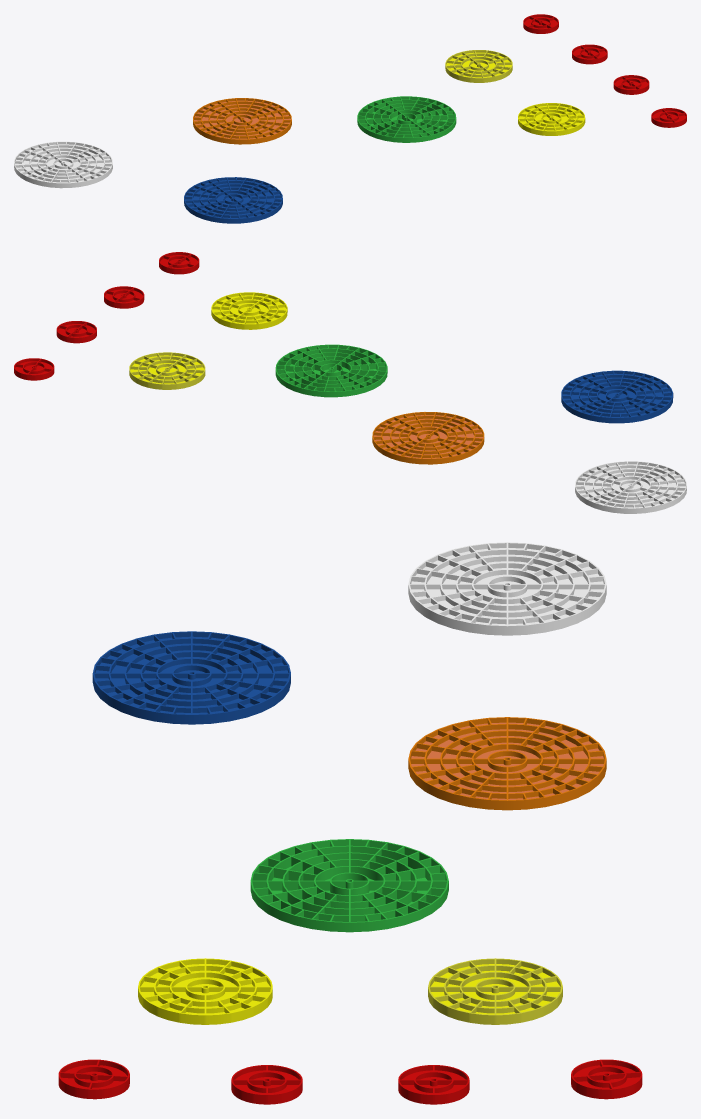
Rendered from Holes.glb.
3 views of the same model, one above another, from view 1: azimuth 30°, elevation 25°; view 2: azimuth 150°, elevation 25°; view 3: azimuth 270°, elevation 25° (orthographic). The views are drawn at different scales.
Visible parts, largest first — view 1: Holes; view 2: Holes; view 3: Holes.
Boxes of the visible parts, box(x1,y1,x2,y2) form: Holes: box(14, 14, 686, 223); Holes: box(14, 252, 686, 513); Holes: box(58, 542, 642, 1104).
Bounding box in the file's own units: 261 × 2.1 × 117.
Materials: 1 (1 with a texture image).
